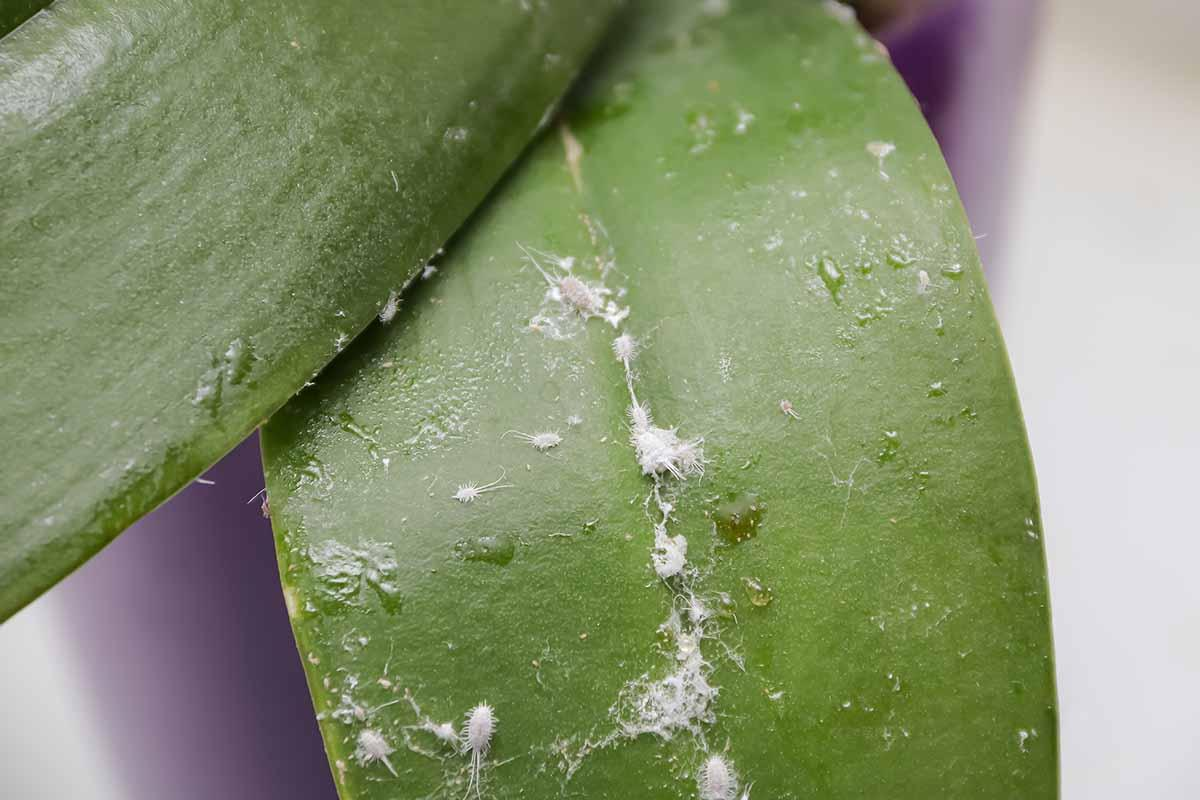pseudococcidae: (259, 203, 816, 799)
